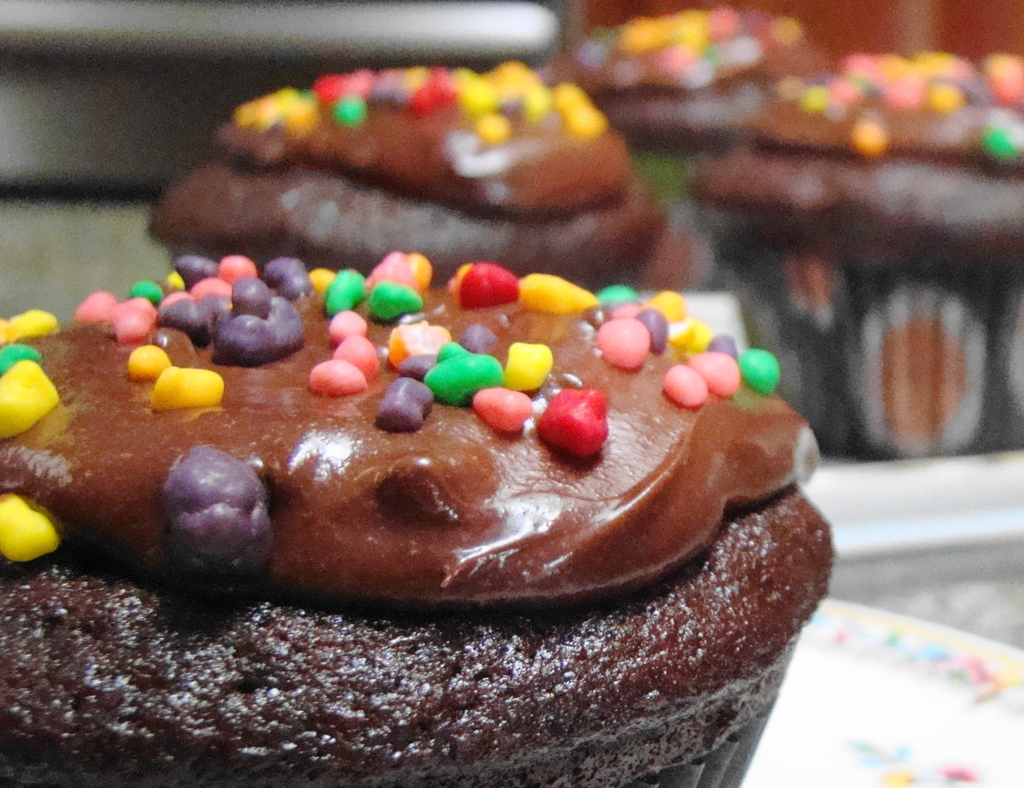cake: (0, 252, 823, 787), (692, 47, 1023, 456), (146, 58, 687, 290), (545, 13, 807, 233)
